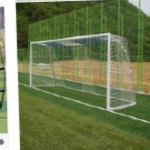goals: (27, 30, 137, 114)
